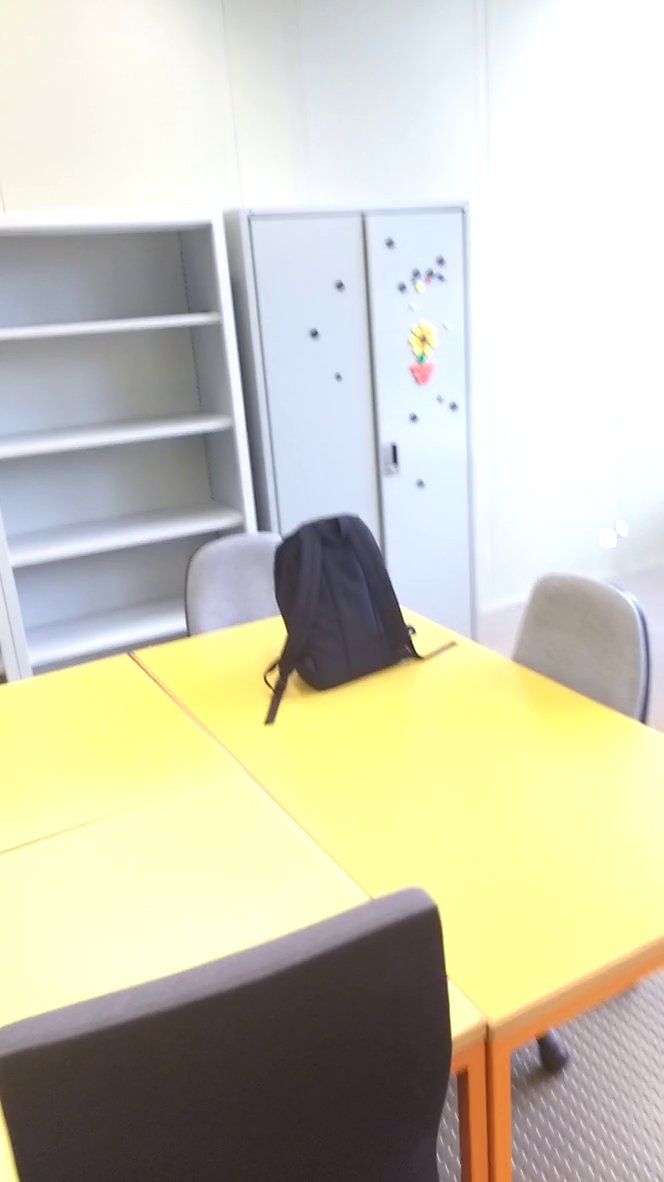bag: (259, 505, 462, 730)
chair: (496, 550, 664, 741), (157, 525, 321, 646)
